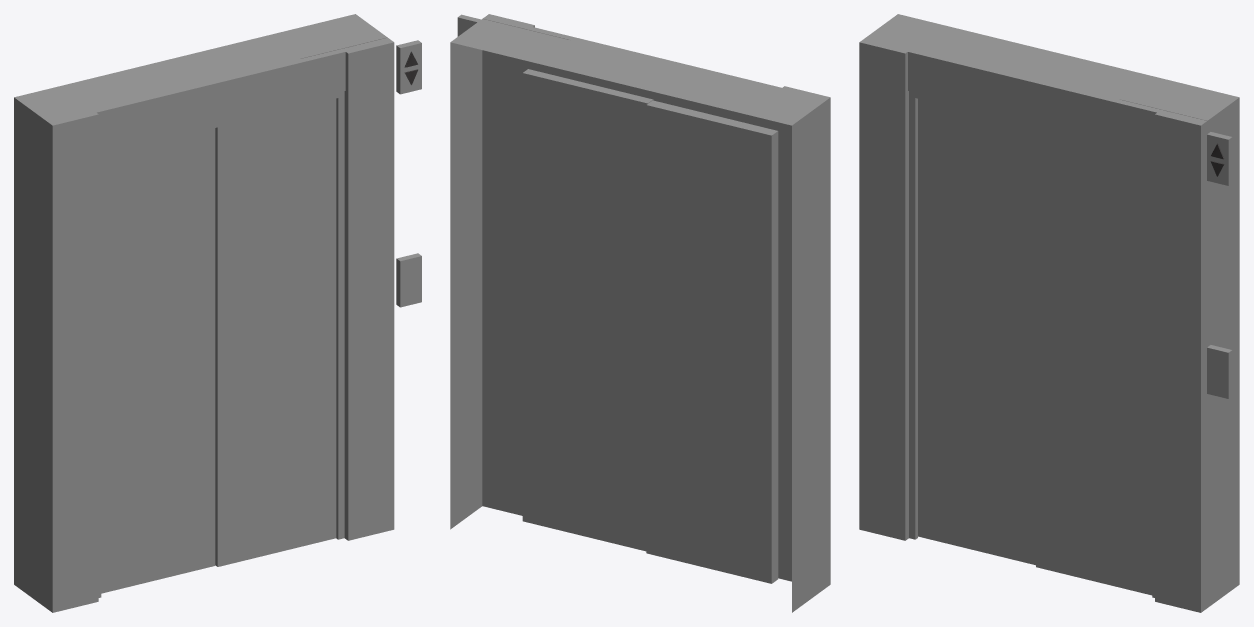
Rendered from Ascensor.fbx.
3 views of the same model, side by side, from view 1: azimuth 30°, elevation 25°; view 2: azimuth 150°, elevation 25°; view 3: azimuth 330°, elevation 25° (orthographic).
Visible parts, largest first — view 1: Ascensor.004; view 2: Ascensor.004; view 3: Ascensor.004.
Boxes of the visible parts, x1,y1,x2,y2 form: Ascensor.004: (14, 14, 421, 612); Ascensor.004: (450, 14, 830, 612); Ascensor.004: (859, 14, 1239, 612).
Size of the model in its own units: 195 by 245 by 35.88.
Materials: 1 (1 with a texture image).
